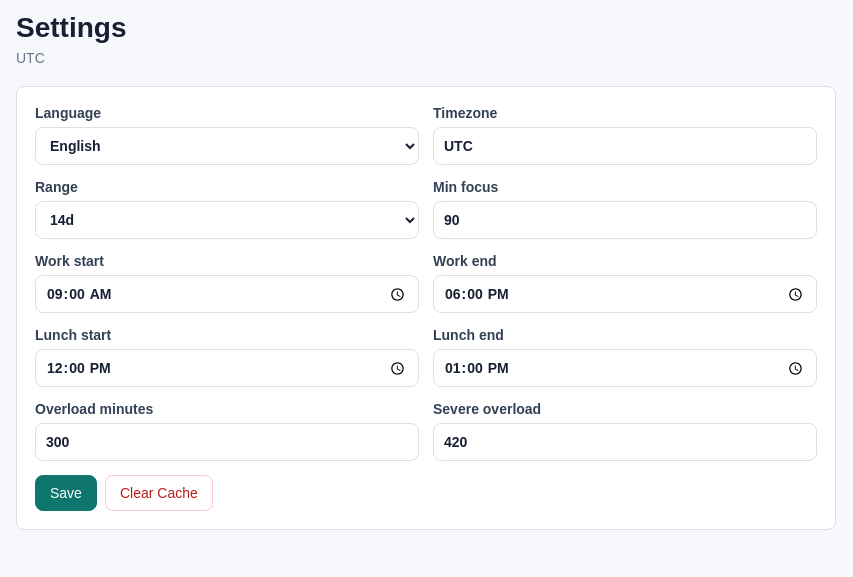
Test: desktop UI › edits settings form values
The image size is (853, 577).
Replace the text in the number field labelled "Min focus" with "120" at (625, 220), box [433,201,817,239]
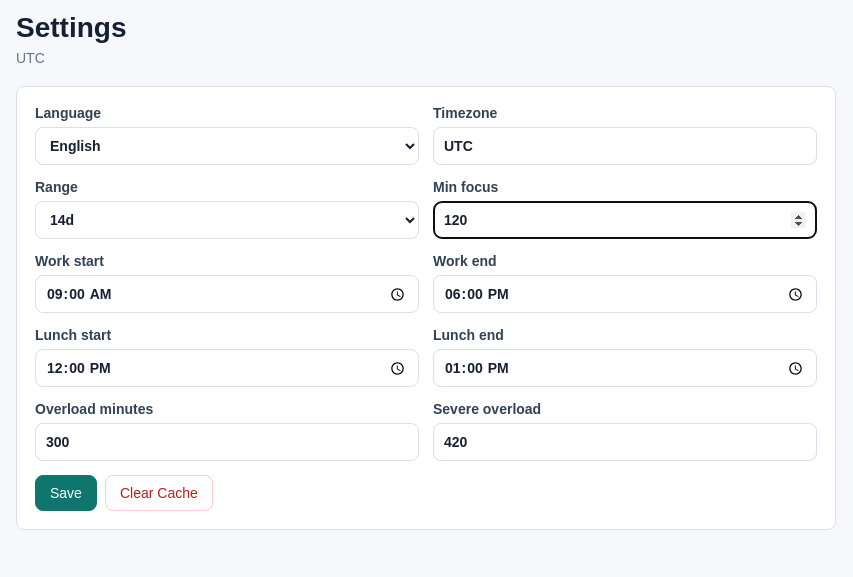
Click the button "Save" at (66, 493), box [35,475,97,511]
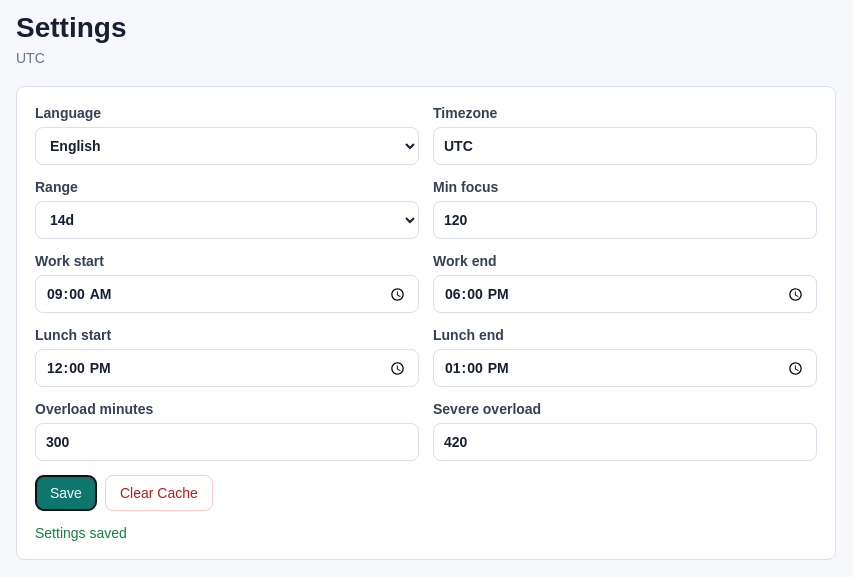
Expected: the text "Settings saved" is shown, [35,525,127,541]
